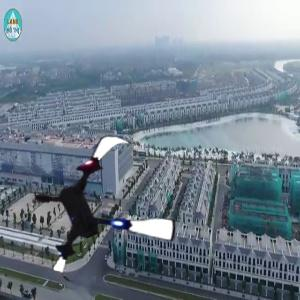drone: (24, 132, 184, 292)
